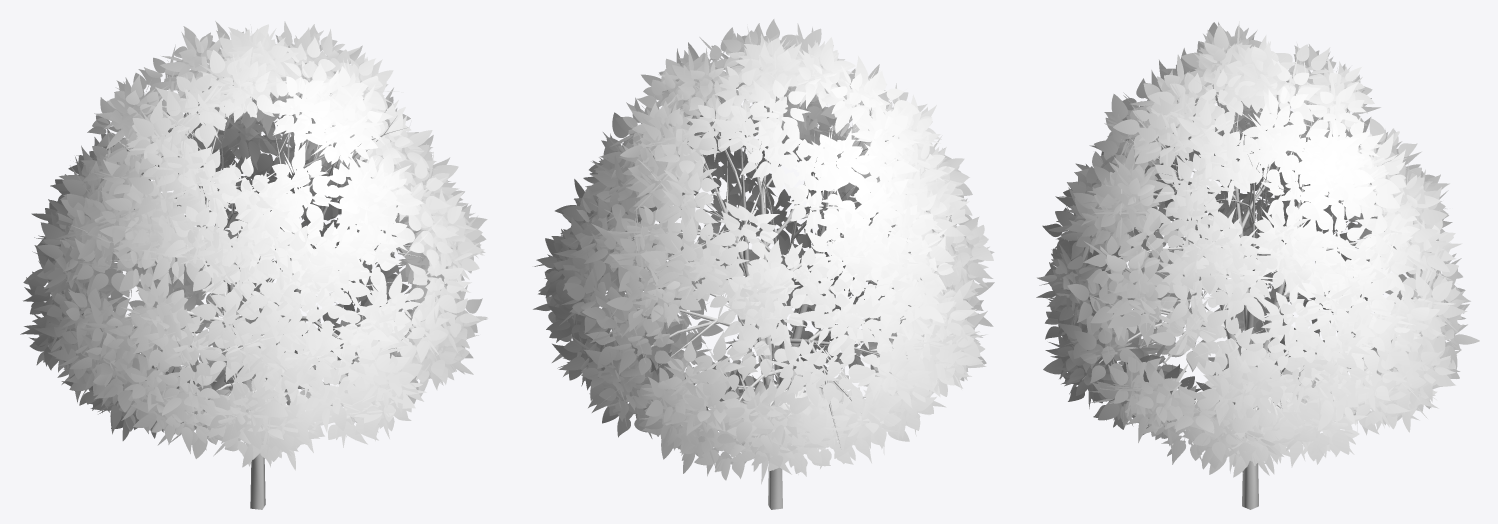
Rendered from Farmi_Puu_Testi7_LOD1.fbx.
3 views of the same model, side by side, from view 1: azimuth 30°, elevation 25°; view 2: azimuth 150°, elevation 25°; view 3: azimuth 270°, elevation 25° (orthographic). The views are drawn at different scales.
Parts seen in each view (by area): view 1: Lehdet_Farmi_Puu_Testi7_LOD1, Trunk_Farmi_Puu_Testi7_LOD1; view 2: Lehdet_Farmi_Puu_Testi7_LOD1, Trunk_Farmi_Puu_Testi7_LOD1; view 3: Lehdet_Farmi_Puu_Testi7_LOD1, Trunk_Farmi_Puu_Testi7_LOD1.
Boxes of the visible parts, x1,y1,x2,y2 form: Lehdet_Farmi_Puu_Testi7_LOD1: (20, 21, 487, 470); Trunk_Farmi_Puu_Testi7_LOD1: (111, 60, 424, 509); Lehdet_Farmi_Puu_Testi7_LOD1: (533, 19, 994, 484); Trunk_Farmi_Puu_Testi7_LOD1: (636, 67, 920, 509); Lehdet_Farmi_Puu_Testi7_LOD1: (1036, 21, 1479, 477); Trunk_Farmi_Puu_Testi7_LOD1: (1082, 68, 1383, 509).
Size of the model in its own units: 1134 by 1254 by 1090.
